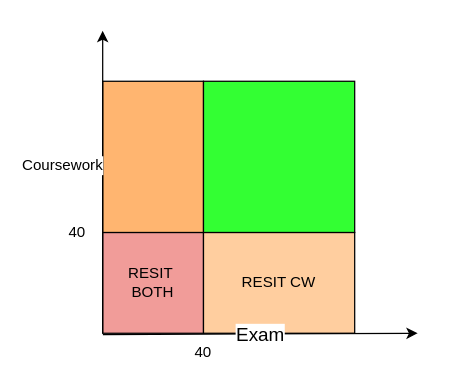
Some shapes in this 450 by 382 pixel diagram are drawn without their labels. The shapes that lost their labels are listed below. From the top down, each one's box as (x1, y1, x2, y2) in pixels, then its label:
(101, 80, 203, 232): RESIT EXAM
(202, 80, 355, 232): PASS
